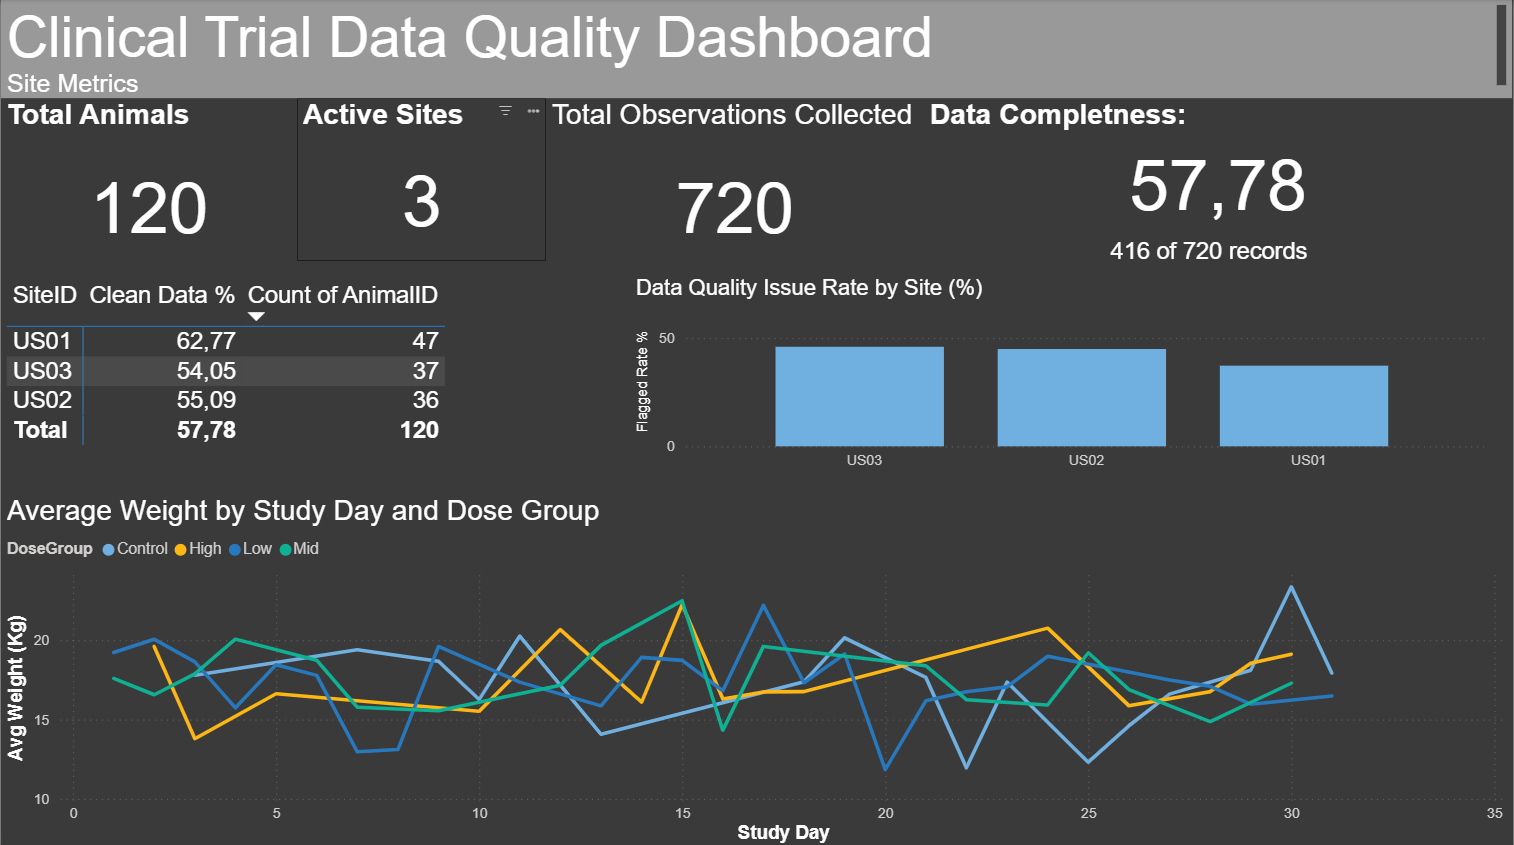

The page's visual inventory and layout, read from the dashboard file:
{"tool":"powerbi","page":{"name":"Site Metrics","canvas":[1280,720],"ordinal":1},"visuals":[{"type":"card","title":"Total Animals","fields":{"Values":["Sum(SiteSummary.TotalAnimals)"]},"box":[0,83.6,250.9,149.8],"z":0},{"type":"card","title":"Active Sites","fields":{"Values":["CountNonNull(SiteSummary.SiteID)"]},"box":[250.9,83.6,211.1,138.1],"z":1000},{"type":"card","title":"Total Observations Collected","fields":{"Values":["CountNonNull(Observations.AnimalID)"]},"box":[462,83.6,320,149.8],"z":2000},{"type":"card","title":"Data Completness:","fields":{"Values":["Observations.Clean Data %"]},"box":[782,83.6,498,109.9],"z":3000},{"type":"pivotTable","fields":{"Values":["Observations.Clean Data %","CountNonNull(Screening.AnimalID)"],"Rows":["SiteSummary.SiteID"]},"box":[0,233.4,533,173.1],"z":4000},{"type":"lineChart","title":"Average Weight by Study Day and Dose Group","fields":{"Y":["Avg(Observations.Weight_kg)"],"Category":["Observations.BirthDate.Variation.Date Hierarchy.Day"],"Series":["Observations.DoseGroup"]},"box":[0,419.2,1280,300.5],"z":5000},{"type":"card","fields":{"Values":["Observations.Clean Records Text"]},"box":[774.2,193.6,498,39.9],"z":5001},{"type":"textbox","box":[0,0,1280,83.6],"z":5002},{"type":"clusteredColumnChart","title":"Data Quality Issue Rate by Site (%)","fields":{"Y":["Observations.Flagged Rate %"],"Category":["SiteSummary.SiteID"]},"box":[533,233.4,730.5,173.1],"z":5003}]}

Visuals, with their boxes in screenshot pixels (x1, y1, x2, y2), scaled from the page's 1280x720 canvas onto the 1514x845 screenshot:
"Total Animals" card: x1=0 y1=98 x2=297 y2=274
"Active Sites" card: x1=297 y1=98 x2=546 y2=260
"Total Observations Collected" card: x1=546 y1=98 x2=925 y2=274
"Data Completness:" card: x1=925 y1=98 x2=1513 y2=227
pivotTable - Observations.Clean Data % x CountNonNull(Screening.AnimalID): x1=0 y1=274 x2=630 y2=477
"Average Weight by Study Day and Dose Group" lineChart: x1=0 y1=492 x2=1513 y2=844
card - Observations.Clean Records Text: x1=916 y1=227 x2=1505 y2=274
textbox: x1=0 y1=0 x2=1513 y2=98
"Data Quality Issue Rate by Site (%)" clusteredColumnChart: x1=630 y1=274 x2=1494 y2=477
